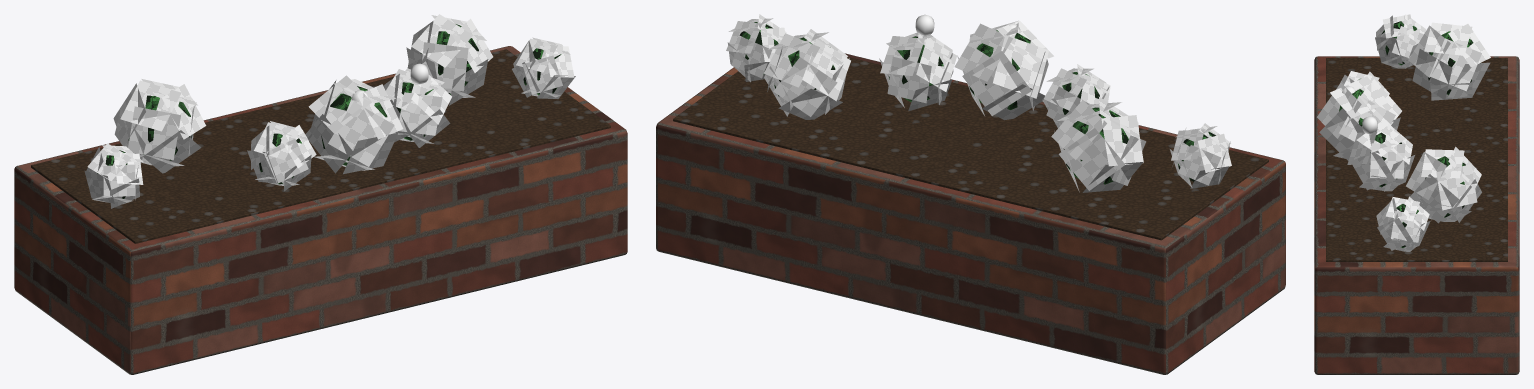
The model's file is planterBed.glb.
The picture shows the model from 3 angles, left to right: view 1: azimuth 30°, elevation 25°; view 2: azimuth 150°, elevation 25°; view 3: azimuth 270°, elevation 25°; orthographic projection. The views are drawn at different scales.
Parts seen in each view (by area): view 1: planterBed, dyn_color_tint; view 2: planterBed, dyn_color_tint; view 3: planterBed, dyn_color_tint.
Boxes of the visible parts, bbox=[...] form: planterBed: bbox=[14, 24, 627, 374]; dyn_color_tint: bbox=[84, 14, 575, 208]; planterBed: bbox=[656, 22, 1285, 374]; dyn_color_tint: bbox=[726, 14, 1231, 192]; planterBed: bbox=[1314, 21, 1519, 374]; dyn_color_tint: bbox=[1317, 14, 1490, 251].
Size of the model in its own units: 2.2 by 0.9129 by 0.9002.
4 materials, 4 textured.
